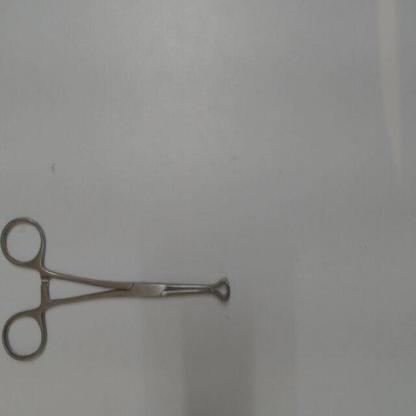Babcock Tissue Forceps: (0, 210, 233, 366)
